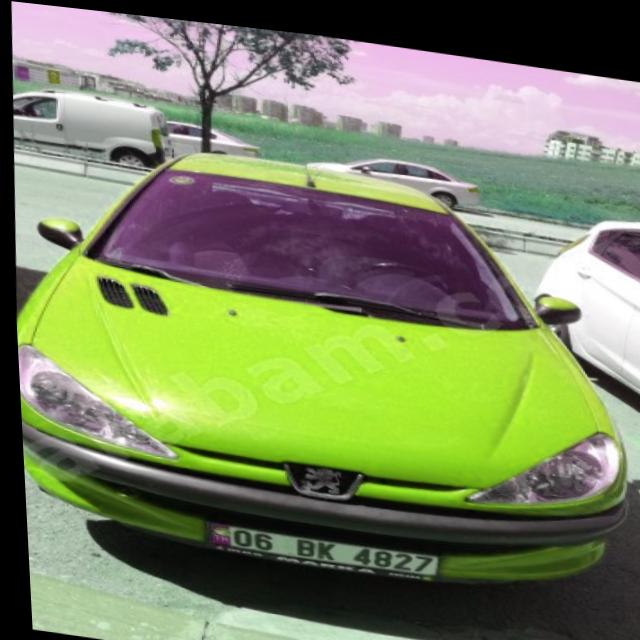license_plate: (199, 515, 433, 569)
